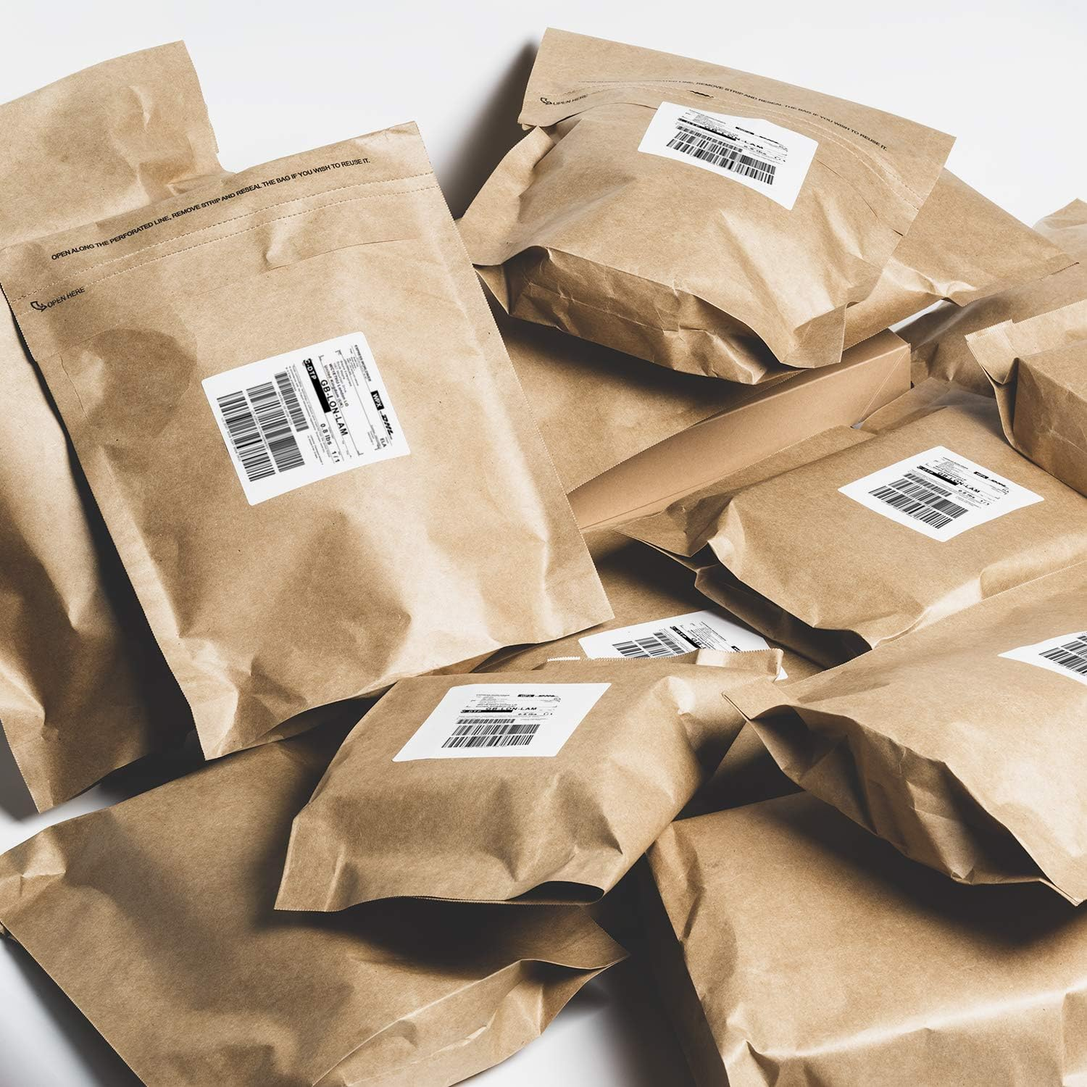塑料袋: (0, 126, 610, 757), (459, 29, 953, 380), (669, 379, 1087, 666), (276, 658, 744, 912)
